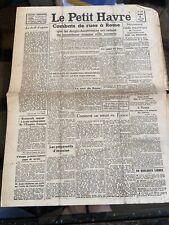paper: (2, 5, 169, 208)
